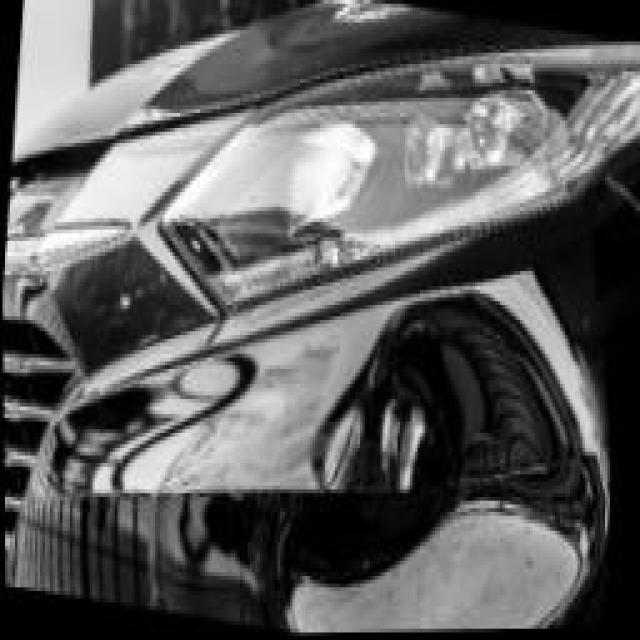Bumper: (260, 233, 640, 636)
